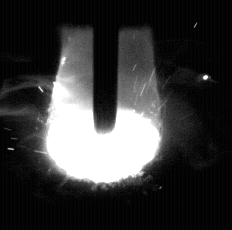arame: (93, 0, 119, 134)
poca: (46, 0, 160, 230)
